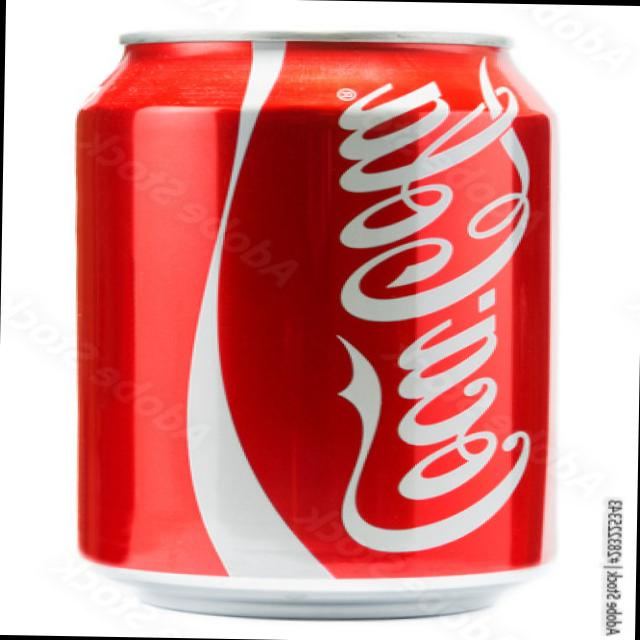cocacola: (63, 23, 574, 624)
